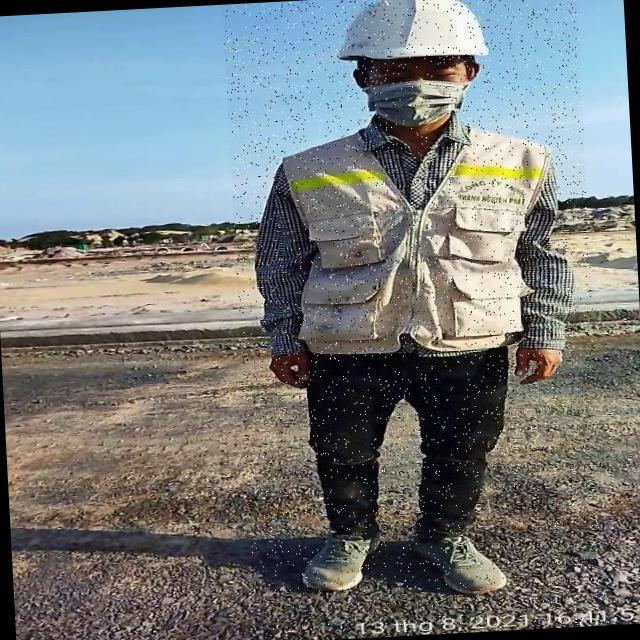Helmet: (327, 0, 502, 75)
Human: (222, 0, 609, 640)
Safety Boot: (404, 529, 531, 601), (286, 527, 391, 596)
Safety Vest: (272, 109, 573, 365)
